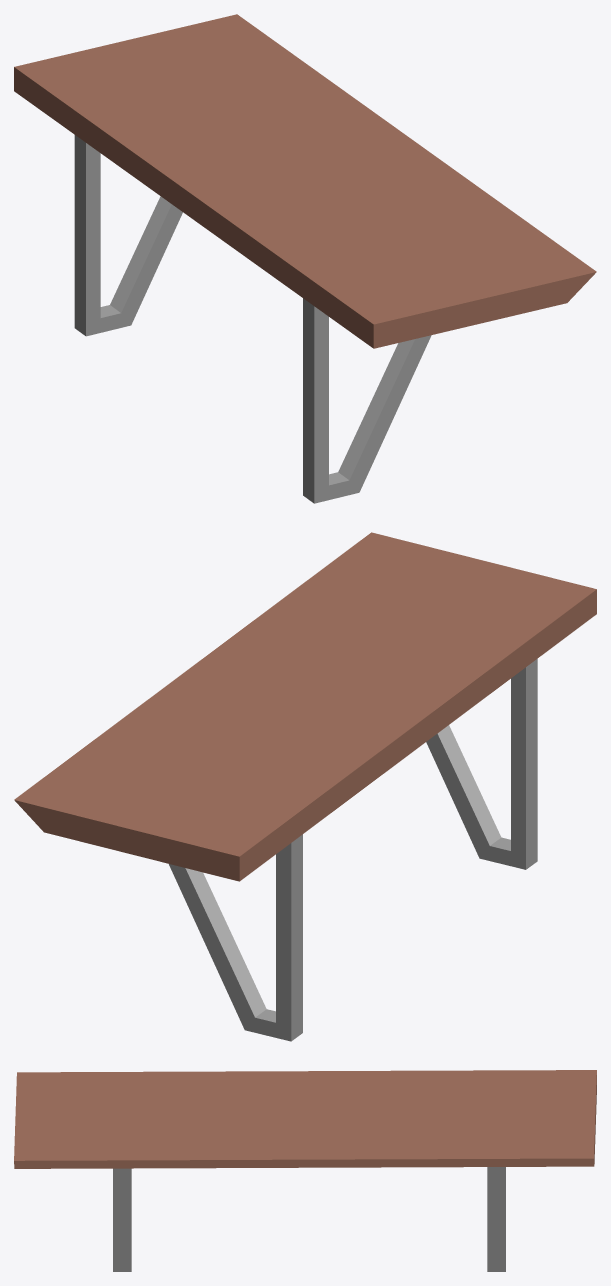
File: shelf.gltf
3 renders of one model, top to bottom at view 1: azimuth 30°, elevation 25°; view 2: azimuth 150°, elevation 25°; view 3: azimuth 270°, elevation 25°, orthographic. The views are drawn at different scales.
Parts seen in each view (by area): view 1: Box001, Box003, Box002; view 2: Box001, Box002, Box003; view 3: Box001, Box002, Box003.
Boxes of the visible parts, box(x1,y1,x2,y2) form: Box001: box(14, 14, 596, 348); Box003: box(303, 298, 431, 503); Box002: box(74, 135, 182, 336); Box001: box(14, 532, 596, 881); Box002: box(169, 834, 302, 1041); Box003: box(426, 659, 537, 869); Box001: box(14, 1070, 596, 1168); Box002: box(487, 1167, 505, 1271); Box003: box(113, 1168, 131, 1271).
Size of the model in its own units: 183721 by 171418 by 498107.
